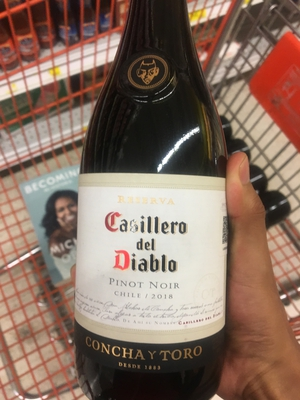casillero del diablo pinot noir: (70, 12, 231, 400)
